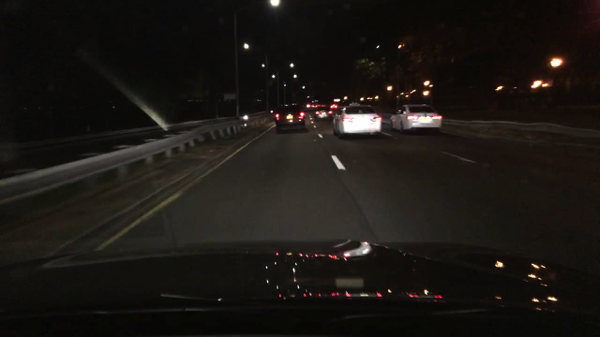car: (332, 104, 384, 139), (389, 105, 444, 133), (273, 103, 306, 132), (313, 106, 332, 122)
